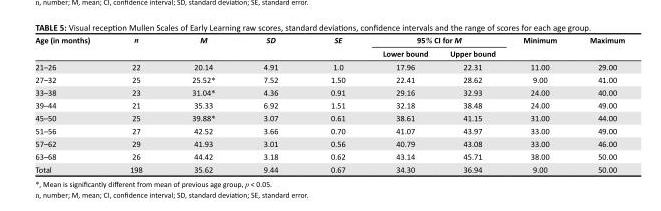table: (34, 34, 624, 173)
table column: (34, 34, 109, 173), (363, 34, 438, 173), (166, 34, 238, 173), (438, 34, 508, 173), (238, 34, 303, 173), (508, 34, 572, 173), (303, 34, 363, 173), (109, 34, 166, 173), (572, 34, 624, 173)
table column header: (34, 34, 624, 59)
table row: (34, 46, 624, 59), (34, 59, 624, 72), (34, 72, 624, 85), (34, 85, 624, 98), (34, 98, 624, 111), (34, 123, 624, 136), (34, 136, 624, 149), (34, 149, 624, 162), (34, 34, 624, 46), (34, 111, 624, 123), (34, 162, 624, 173)
table spanning cell: (34, 34, 109, 59), (166, 34, 238, 59), (363, 34, 508, 46), (238, 34, 303, 59), (508, 34, 572, 59), (303, 34, 363, 59), (109, 34, 166, 59), (572, 34, 624, 59)
